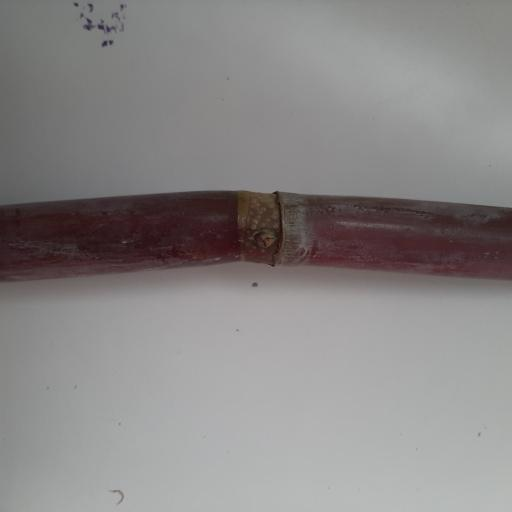Bud: (247, 227, 278, 249)
